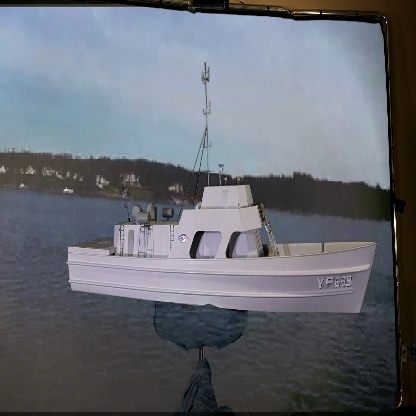YP689: (69, 61, 376, 318)
